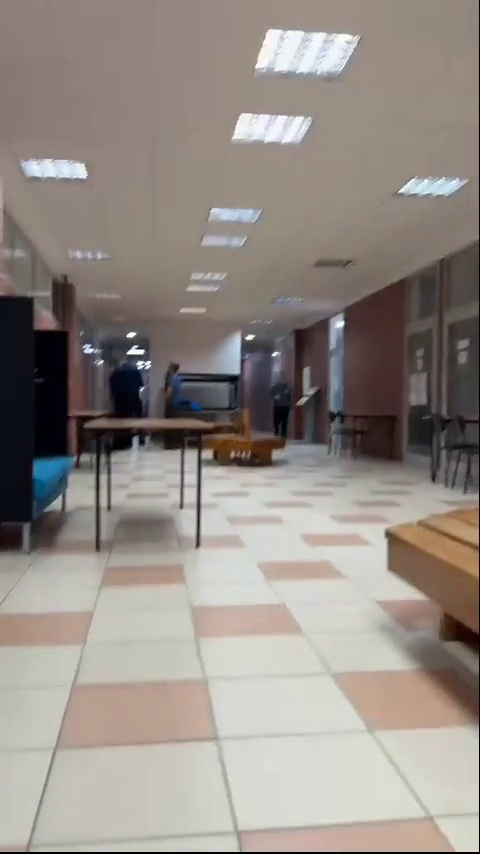no vest: (164, 361, 206, 420), (107, 349, 146, 412), (267, 369, 295, 446)
